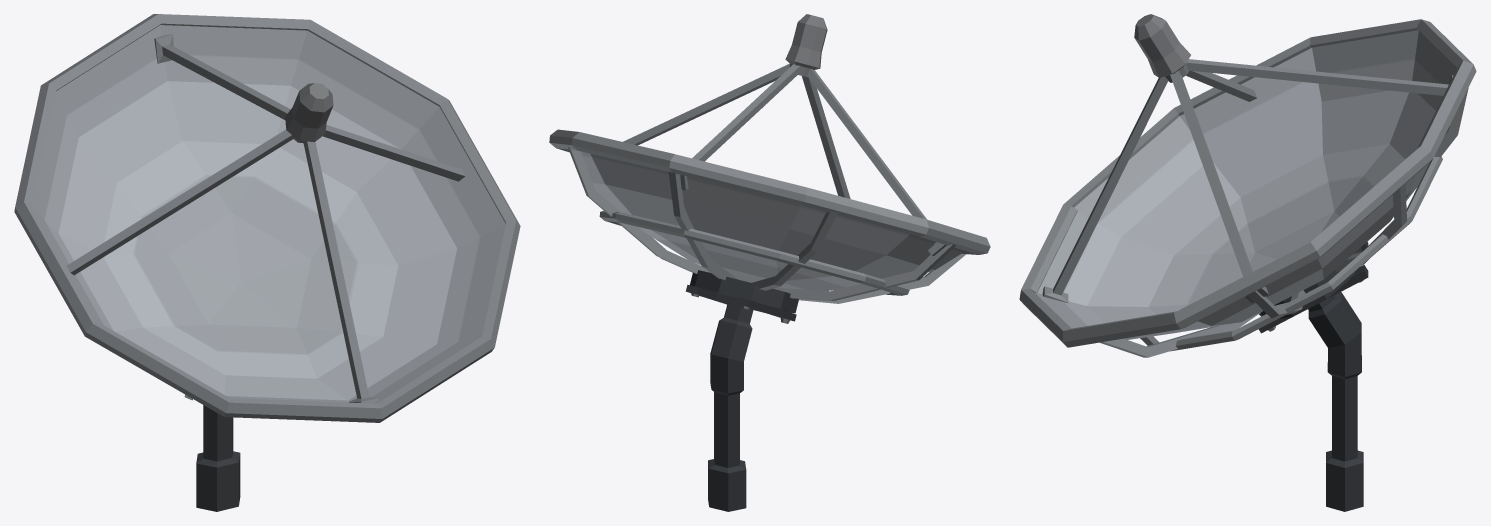
File: SM_Prop_SatDish_01.fbx
3 views of the same model, side by side, from view 1: azimuth 30°, elevation 25°; view 2: azimuth 150°, elevation 25°; view 3: azimuth 270°, elevation 25° (orthographic). The views are drawn at different scales.
Visible parts, largest first — view 1: SM_Prop_SatDish_01; view 2: SM_Prop_SatDish_01; view 3: SM_Prop_SatDish_01.
Part boxes in pixels (x1,y1,x2,y2): SM_Prop_SatDish_01: (14,14,520,511); SM_Prop_SatDish_01: (549,14,990,511); SM_Prop_SatDish_01: (1019,14,1476,511).
Bounding box in the file's own units: 296 × 319 × 272.
